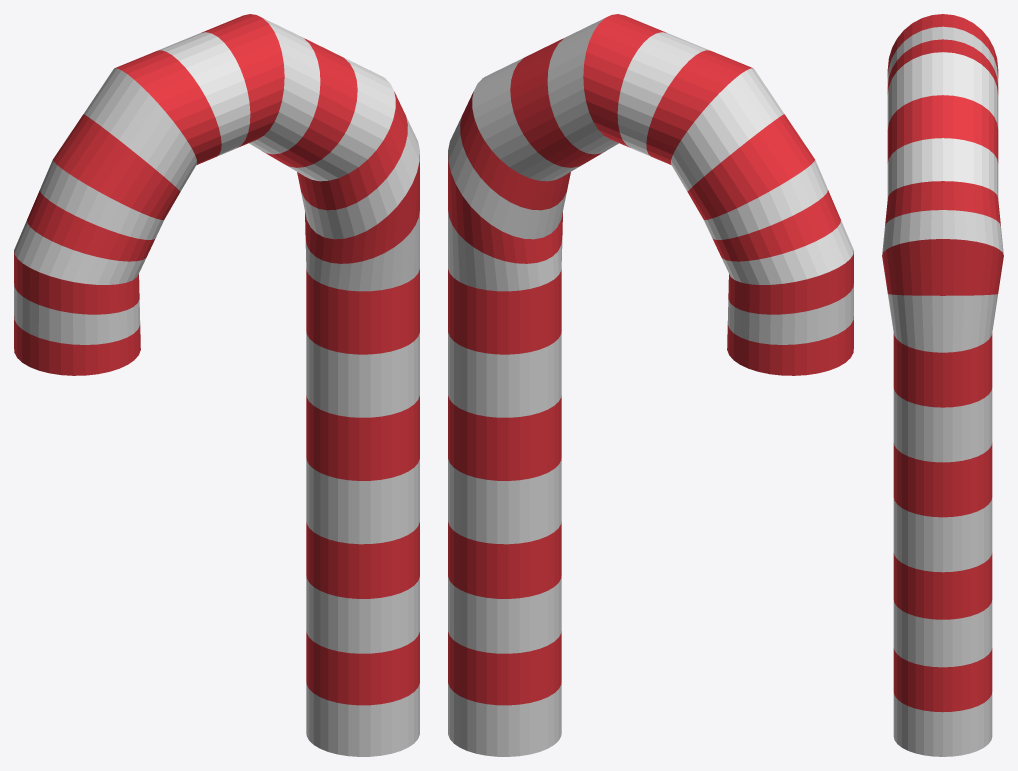
File: candy cane.fbx
The picture shows the model from 3 angles, left to right: view 1: azimuth 30°, elevation 25°; view 2: azimuth 150°, elevation 25°; view 3: azimuth 270°, elevation 25°; orthographic projection. The views are drawn at different scales.
Parts seen in each view (by area): view 1: Cylinder; view 2: Cylinder; view 3: Cylinder.
Boxes of the visible parts, left/top/right/bottom form: Cylinder: left=14, top=14, right=419, bottom=756; Cylinder: left=448, top=14, right=853, bottom=756; Cylinder: left=882, top=14, right=1003, bottom=756.
Size of the model in its own units: 791 by 1432 by 247.
